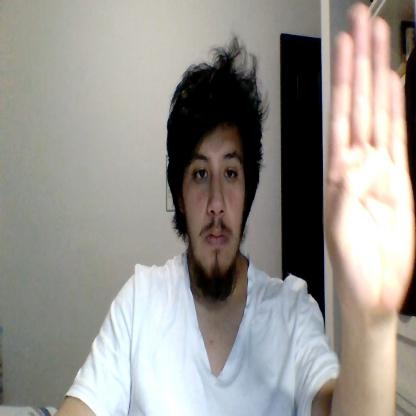B: (323, 1, 415, 315)
